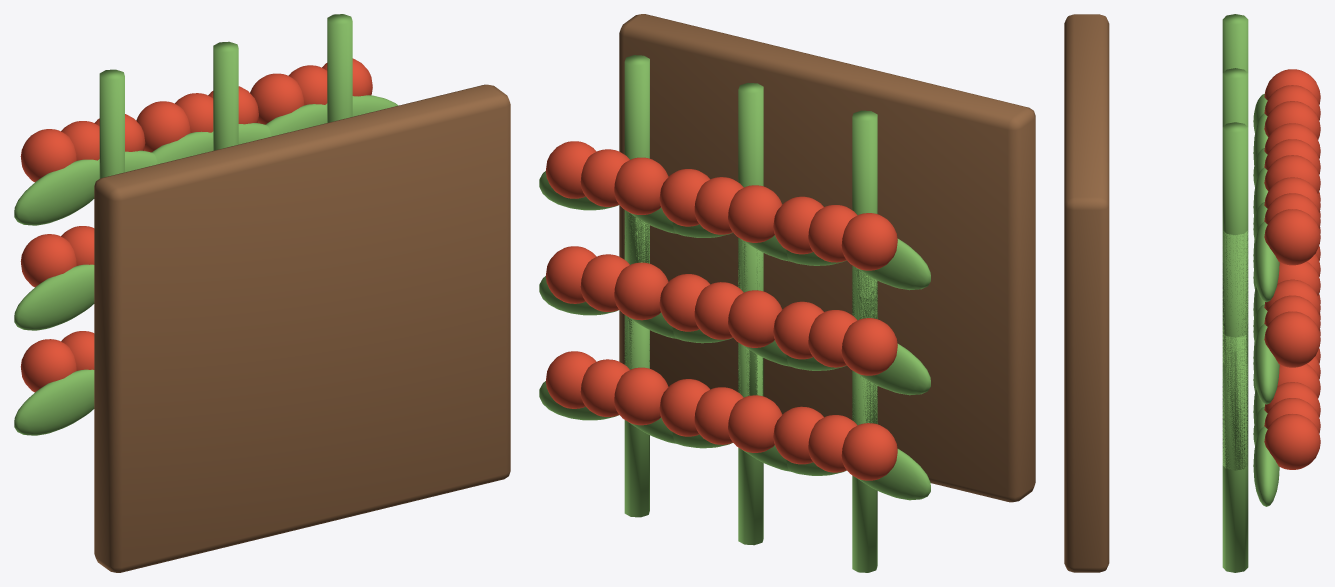
The model's file is tomato_ripe.glb.
The picture shows the model from 3 angles, left to right: view 1: azimuth 30°, elevation 25°; view 2: azimuth 150°, elevation 25°; view 3: azimuth 270°, elevation 25°; orthographic projection. The views are drawn at different scales.
Parts seen in each view (by area): view 1: Soil, Leaf.004, Leaf, Leaf.002, Stem.002, Stem.005, Stem.008, Fruit, Fruit.006, Fruit.003, Fruit.024, Fruit.015 (+11 smaller); view 2: Soil, Stem.008, Stem.002, Stem.006, Stem, Stem.003, Stem.005, Fruit, Fruit.003, Fruit.006, Fruit.018, Fruit.009 (+31 smaller); view 3: Soil, Stem.006, Stem.007, Stem.008, Fruit.023, Fruit.026, Fruit.020, Stem.005, Stem.002, Leaf.013, Leaf.015, Leaf.017 (+16 smaller).
Part boxes in pixels (x1=…): Soil: x1=94, y1=84, x2=510, y2=572; Leaf.004: x1=14, y1=159, x2=99, y2=225; Leaf: x1=14, y1=369, x2=94, y2=435; Leaf.002: x1=14, y1=264, x2=94, y2=330; Stem.002: x1=99, y1=69, x2=124, y2=178; Stem.005: x1=213, y1=41, x2=238, y2=150; Stem.008: x1=327, y1=14, x2=352, y2=122; Fruit: x1=20, y1=339, x2=76, y2=392; Fruit.006: x1=20, y1=129, x2=76, y2=182; Fruit.003: x1=20, y1=234, x2=76, y2=287; Fruit.024: x1=250, y1=73, x2=304, y2=124; Fruit.015: x1=136, y1=101, x2=190, y2=152; Soil: x1=619, y1=14, x2=1035, y2=502; Stem.008: x1=624, y1=55, x2=649, y2=264; Stem.002: x1=852, y1=110, x2=877, y2=320; Stem.006: x1=624, y1=315, x2=649, y2=517; Stem: x1=852, y1=370, x2=877, y2=572; Stem.003: x1=738, y1=343, x2=763, y2=545; Stem.005: x1=738, y1=83, x2=763, y2=291; Fruit: x1=841, y1=423, x2=897, y2=480; Fruit.003: x1=841, y1=318, x2=897, y2=375; Fruit.006: x1=841, y1=213, x2=897, y2=270; Fruit.018: x1=614, y1=367, x2=668, y2=425; Fruit.009: x1=728, y1=395, x2=782, y2=452; Soil: x1=1064, y1=14, x2=1109, y2=572; Stem.006: x1=1222, y1=334, x2=1248, y2=572; Stem.007: x1=1222, y1=230, x2=1248, y2=470; Stem.008: x1=1222, y1=122, x2=1248, y2=364; Fruit.023: x1=1264, y1=311, x2=1320, y2=367; Fruit.026: x1=1264, y1=209, x2=1320, y2=265; Fruit.020: x1=1264, y1=414, x2=1320, y2=469; Stem.005: x1=1222, y1=68, x2=1248, y2=126; Stem.002: x1=1222, y1=14, x2=1248, y2=72; Leaf.013: x1=1253, y1=426, x2=1279, y2=506; Leaf.015: x1=1253, y1=324, x2=1279, y2=404; Leaf.017: x1=1253, y1=221, x2=1279, y2=302.
Size of the model in its own units: 1.2 by 1.29 by 0.6818.
